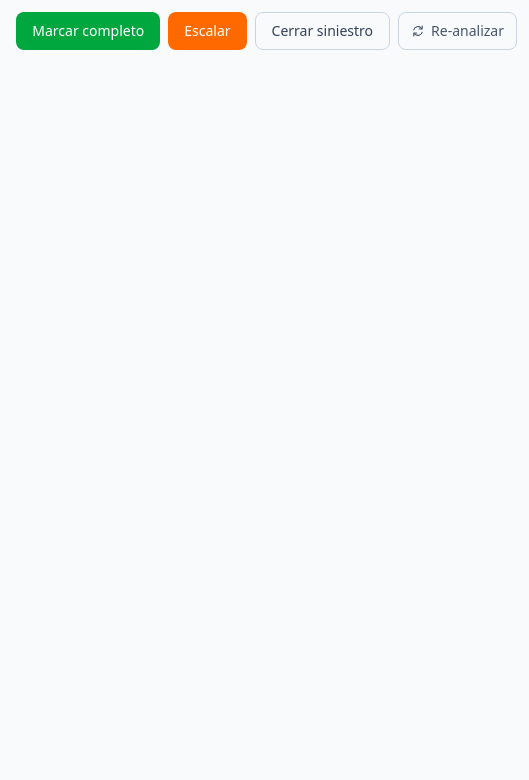
la situación del caso › el detalle en es-AR avisa un cambio que responde 200 con «Situación actualizada.»
Click the button with test id "action-marcar-completo" at (88, 31), box [16,12,160,50]
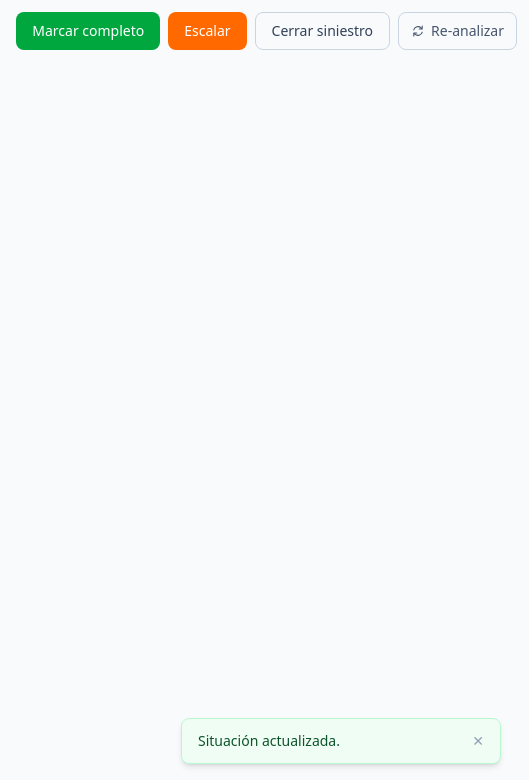
Expected: the text "Situación actualizada." is shown, [198,731,340,751]
